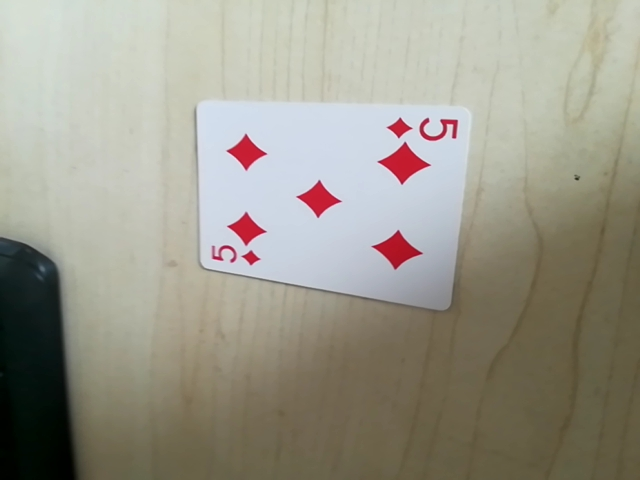fk 5: (383, 111, 459, 145), (206, 240, 264, 272)
